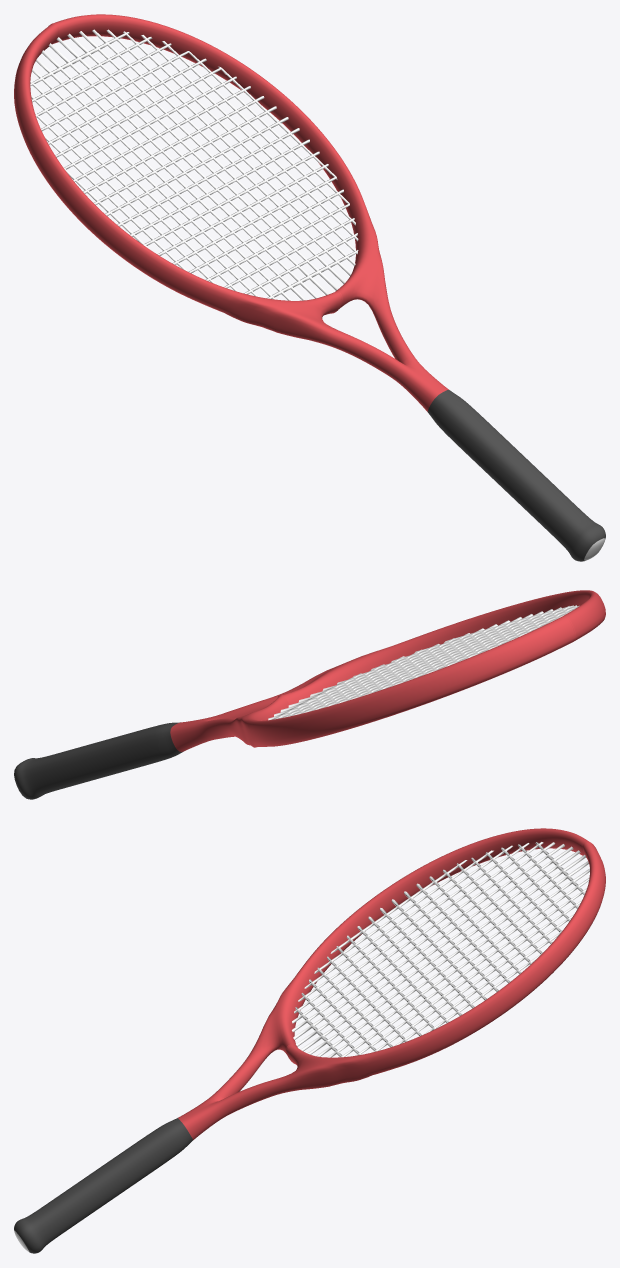
Rendered from tenisuraketto.glb.
3 views of the same model, one above another, from view 1: azimuth 30°, elevation 25°; view 2: azimuth 210°, elevation 25°; view 3: azimuth 270°, elevation 25° (orthographic). The views are drawn at different scales.
Parts seen in each view (by area): view 1: 円, 平面; view 2: 円, 平面; view 3: 円, 平面.
Boxes of the visible parts, bbox=[...] form: 円: bbox=[14, 14, 605, 561]; 平面: bbox=[30, 29, 358, 300]; 円: bbox=[14, 590, 605, 799]; 平面: bbox=[268, 605, 579, 720]; 円: bbox=[14, 828, 605, 1253]; 平面: bbox=[292, 842, 589, 1057].
Bounding box in the file's own units: 2.43 × 2.59 × 4.39.
